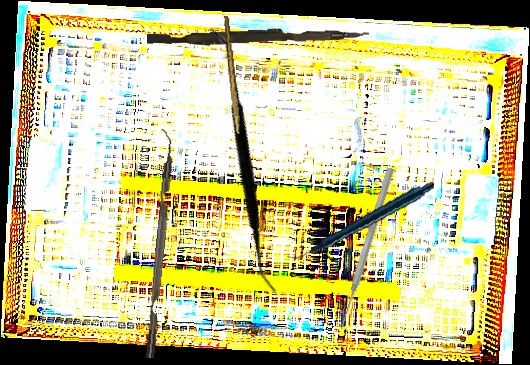Chopper: (134, 128, 178, 359)
Handpiece: (286, 163, 435, 277)
Pusher: (336, 166, 396, 331), (146, 22, 370, 50)
Scalpel Handle: (221, 15, 244, 135)
Spatula Surgical: (110, 25, 375, 296)
